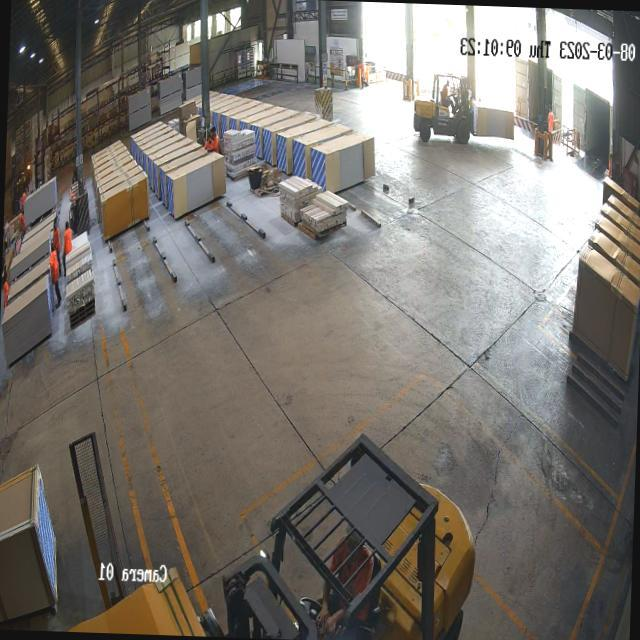driver: (324, 534, 378, 616)
forklift: (192, 418, 483, 640), (410, 70, 470, 148)
person: (48, 240, 62, 312), (62, 219, 72, 256), (203, 131, 212, 151), (212, 124, 218, 152), (548, 105, 554, 131)
